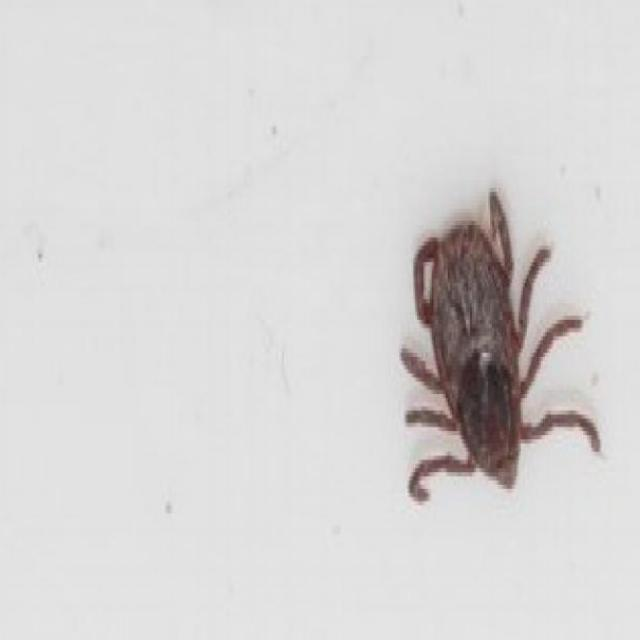Rhipicephalus Sanguineus-F: (399, 188, 604, 501)
